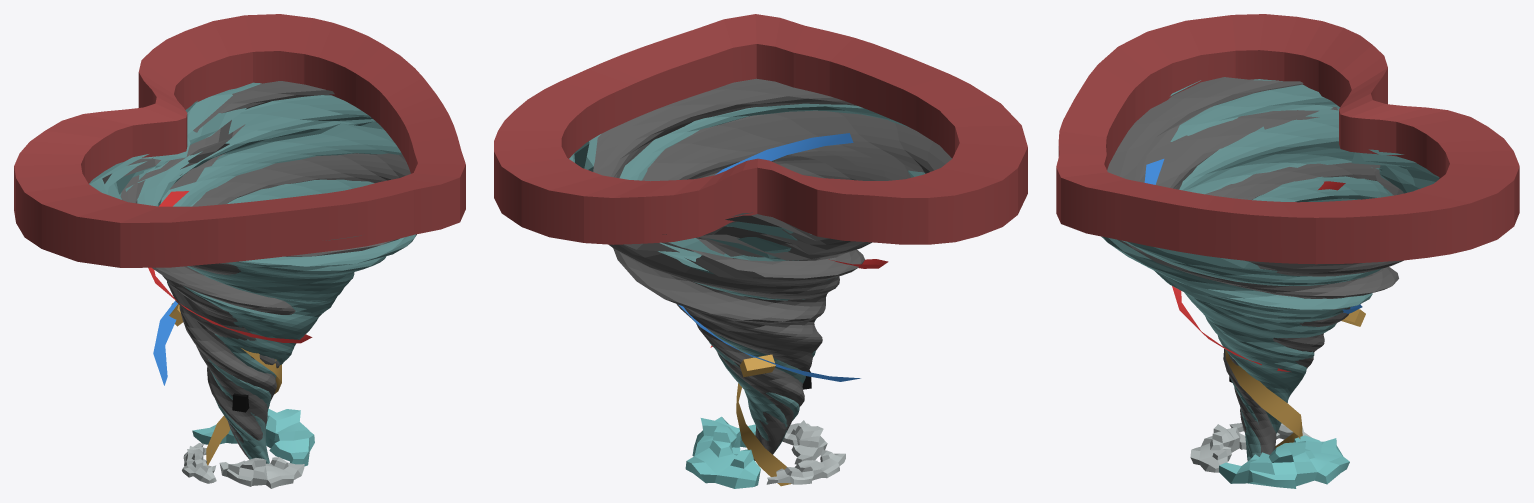
Rendered from Heart Tornado.fbx.
3 renders of one model, left to right at view 1: azimuth 30°, elevation 25°; view 2: azimuth 150°, elevation 25°; view 3: azimuth 270°, elevation 25°, orthographic. The views are drawn at different scales.
Parts seen in each view (by area): view 1: Plane004; view 2: Plane004; view 3: Plane004.
Boxes of the visible parts, bbox=[...] form: Plane004: bbox=[14, 14, 465, 488]; Plane004: bbox=[494, 14, 1027, 488]; Plane004: bbox=[1056, 14, 1519, 488].
Size of the model in its own units: 241 by 187 by 226.
